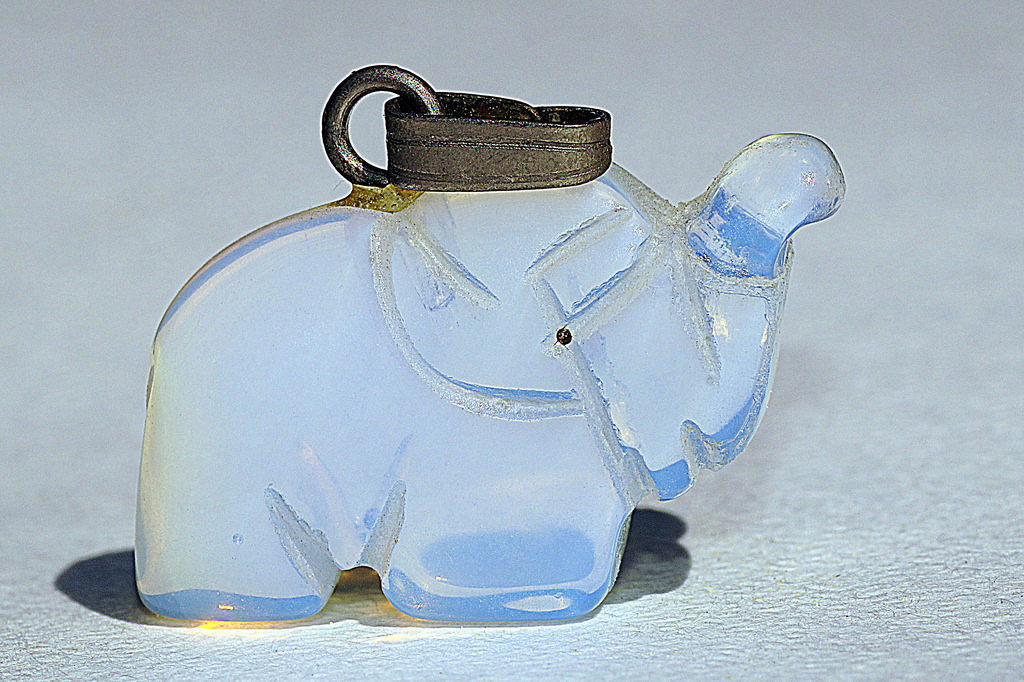glass of water: (240, 251, 578, 548)
